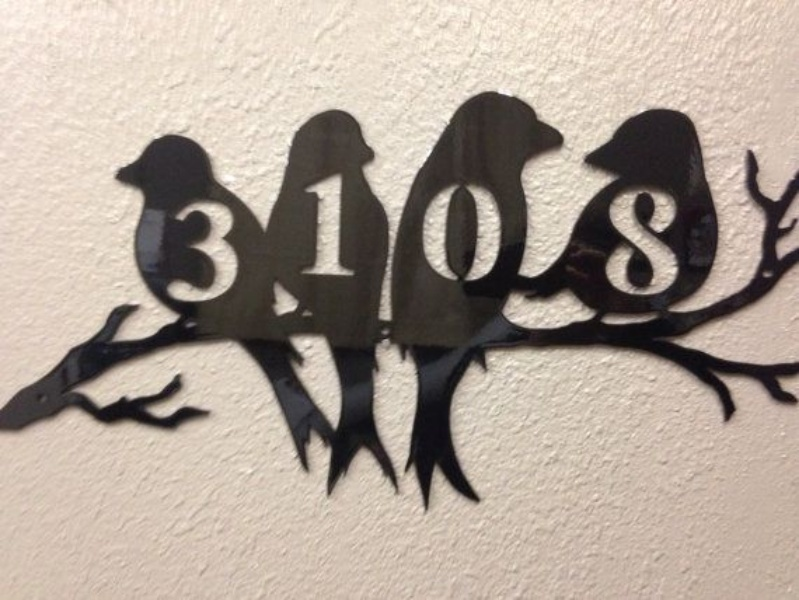text: (609, 187, 624, 298), (625, 187, 640, 298), (641, 187, 656, 298), (657, 187, 672, 298), (177, 198, 192, 305), (193, 198, 208, 305), (209, 198, 224, 305), (225, 198, 240, 305), (433, 181, 448, 285), (449, 181, 464, 285), (465, 181, 480, 285), (481, 181, 496, 285), (305, 172, 320, 275), (321, 172, 336, 275), (337, 172, 352, 275), (165, 198, 176, 305), (421, 181, 432, 285), (673, 187, 680, 298), (497, 181, 504, 285), (298, 172, 304, 275), (353, 172, 358, 275), (605, 187, 608, 298), (241, 198, 242, 305)
